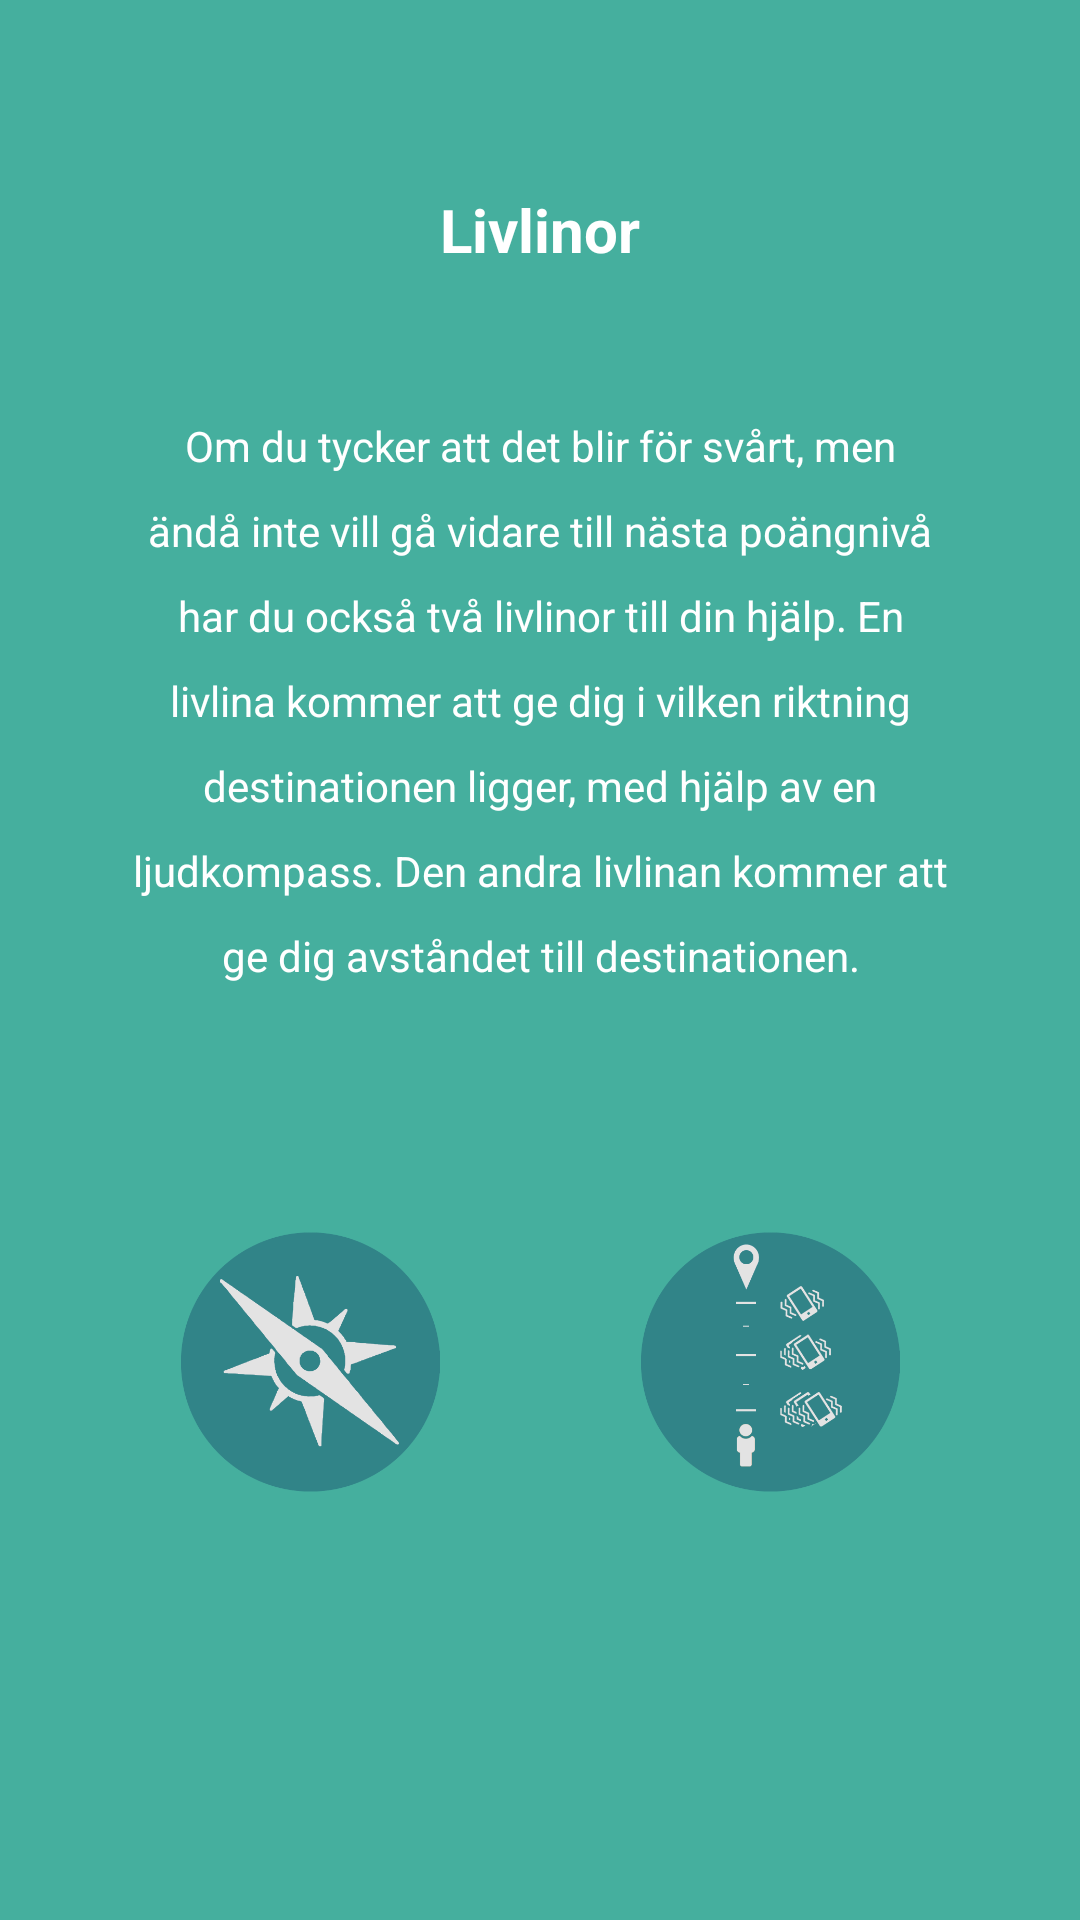

Icon bounding boxes for this 1080*1920 phone screenshot, format (x1, y1, x2, y2):
kompass: (181, 1233, 440, 1491)
vibb: (641, 1233, 900, 1491)
